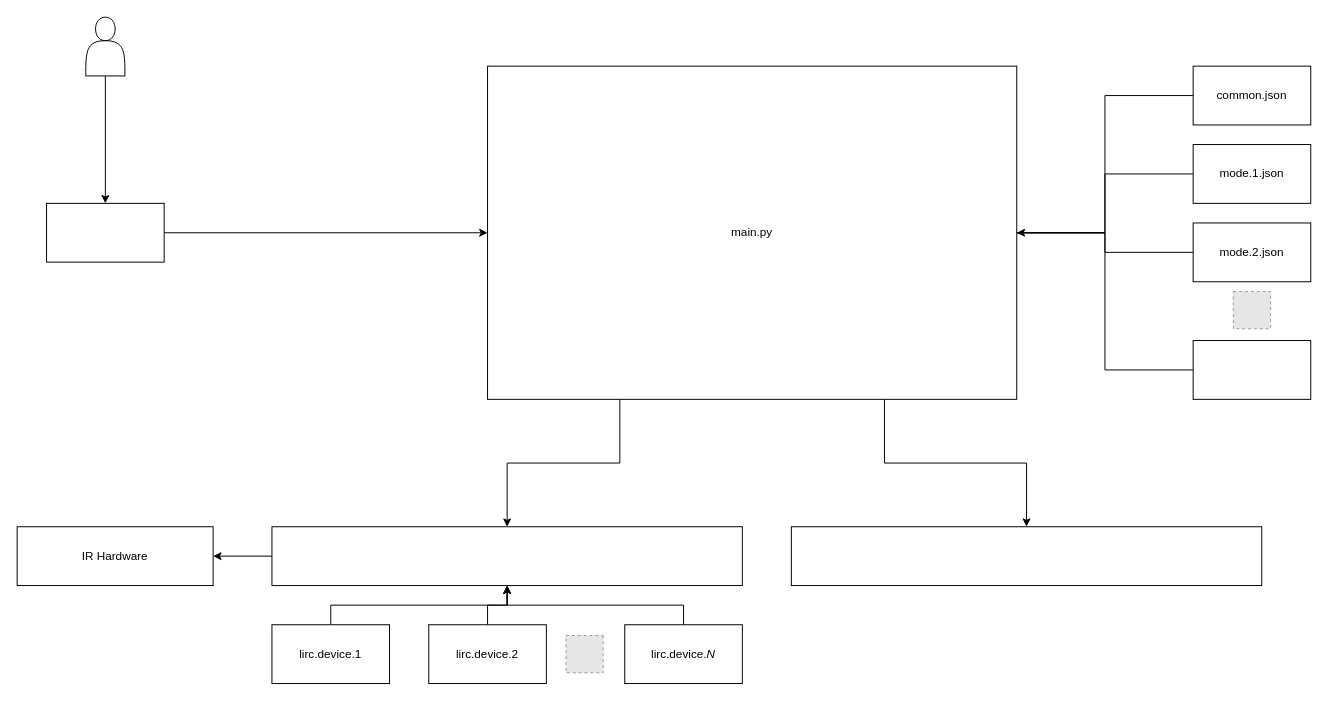
This 1328x701 diagram has some shape labels left out. Grey dashed boxes stand in for pictures. Each missing label, with the centre of its shape:
bluetooth: point 1026,556
HID (Keyboard): point 105,232
lirc: point 506,556
mode. N .json: point 1251,369
